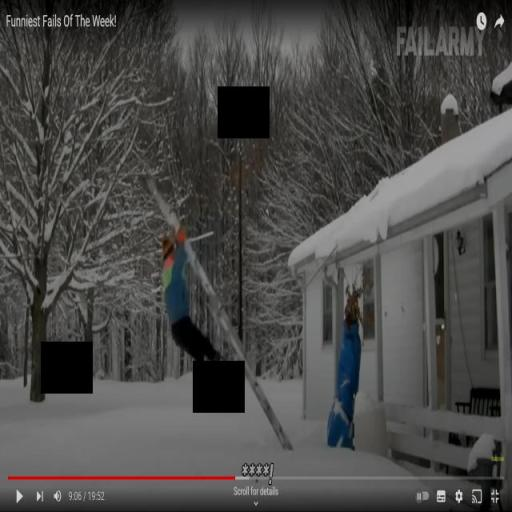Fall: (159, 222, 240, 414)
